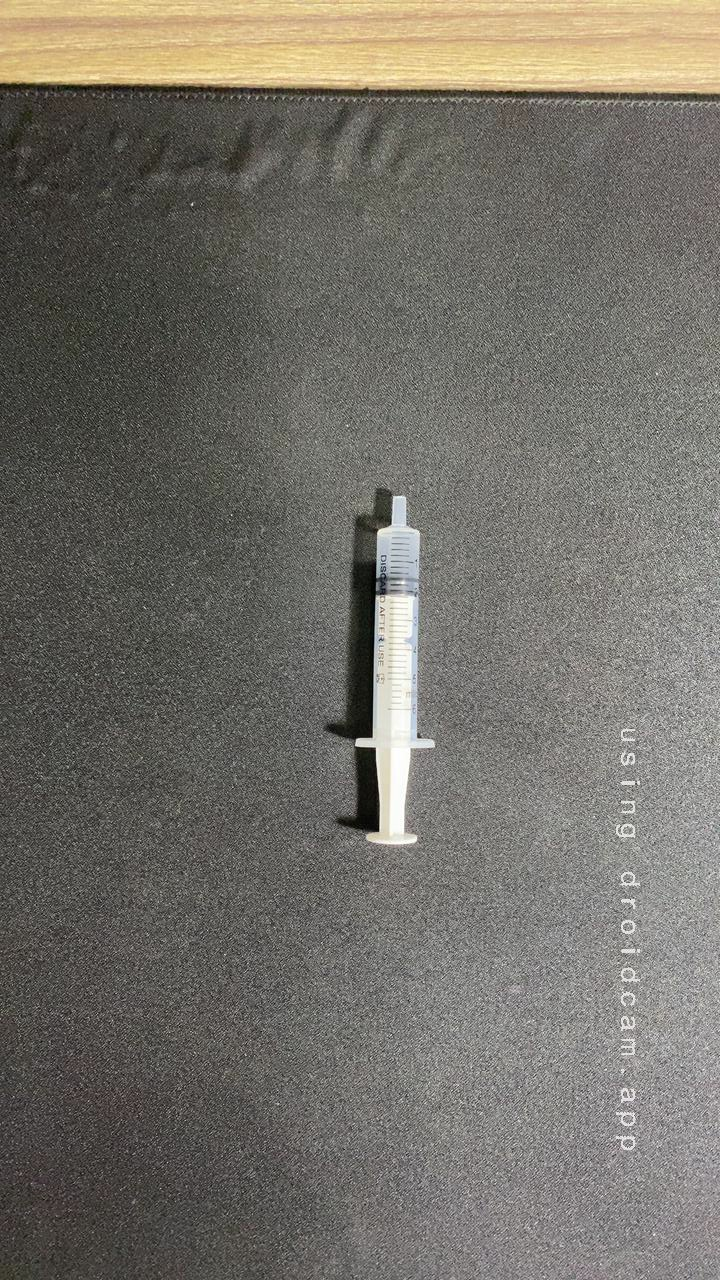syringe: (310, 474, 479, 862)
